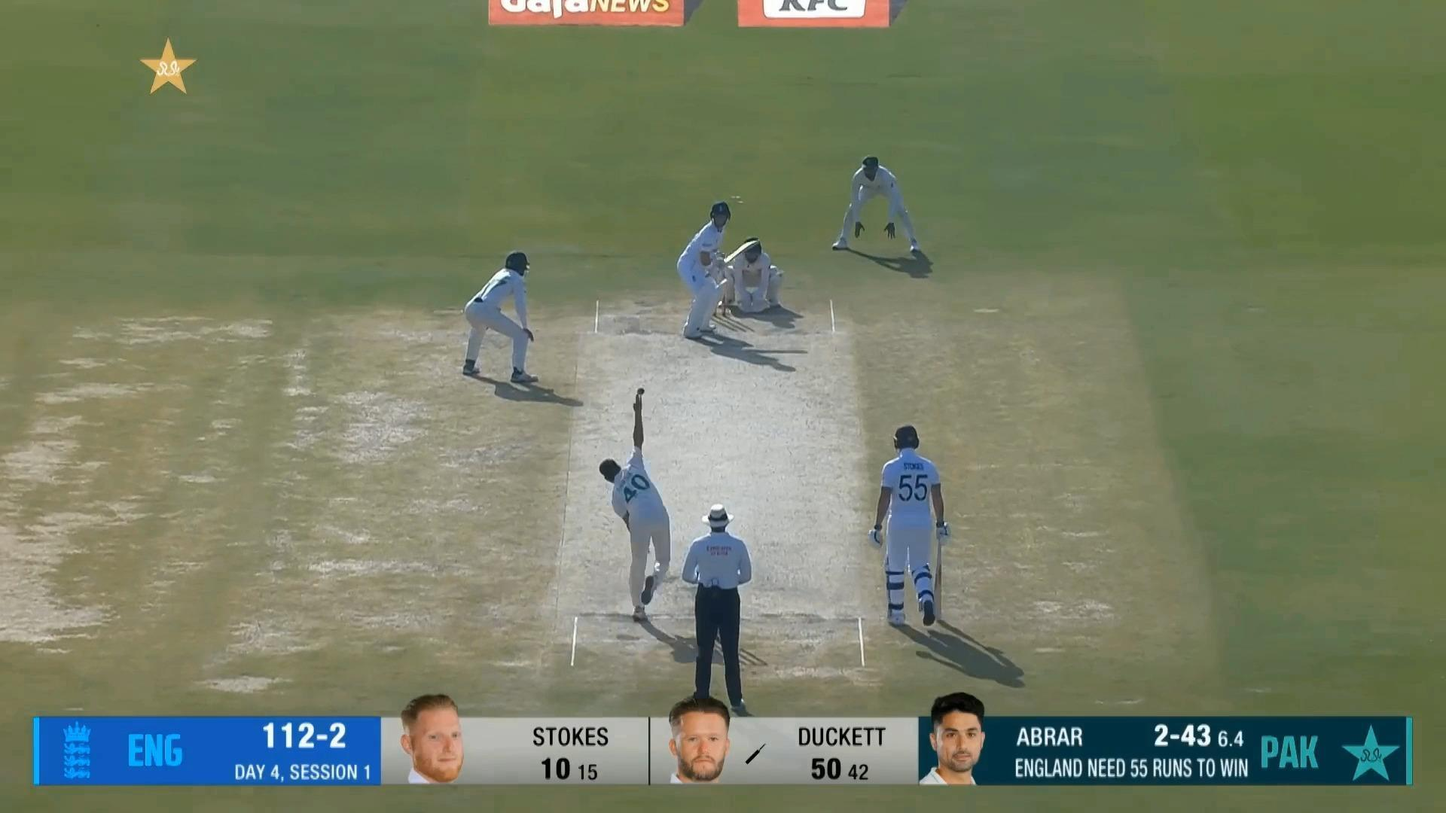BM 1: (676, 201, 758, 340)
BO: (595, 389, 676, 625)
